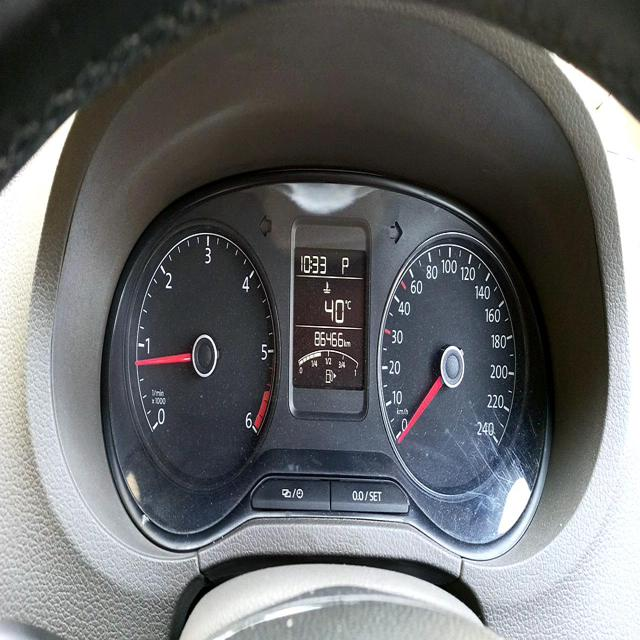odometer: (311, 328, 344, 350)
